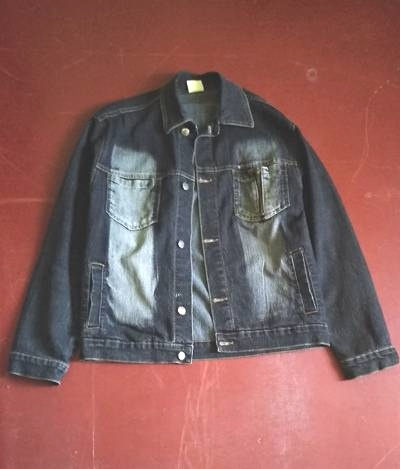Blazer: (15, 59, 393, 405)
